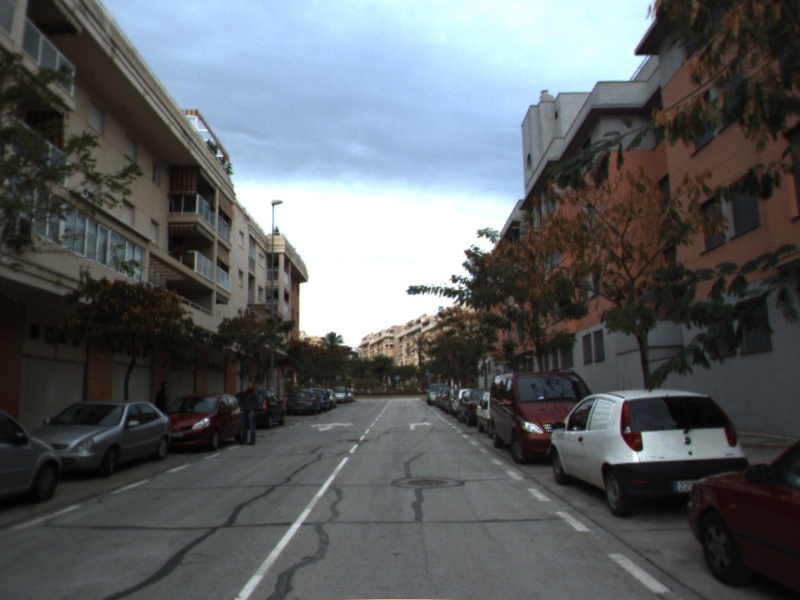RIGHT: (407, 419, 435, 432)
